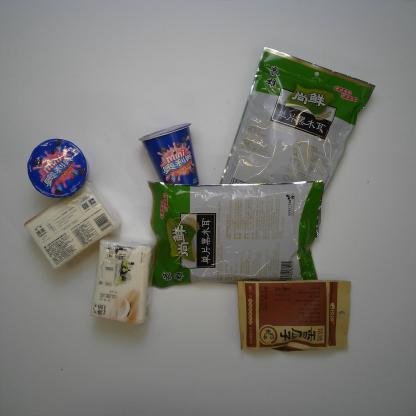Dessert: (135, 120, 201, 190), (27, 135, 89, 201)
Dried Food: (213, 42, 375, 192), (143, 178, 326, 289), (233, 276, 351, 354)
Tissue: (21, 176, 122, 270), (84, 238, 155, 326)
